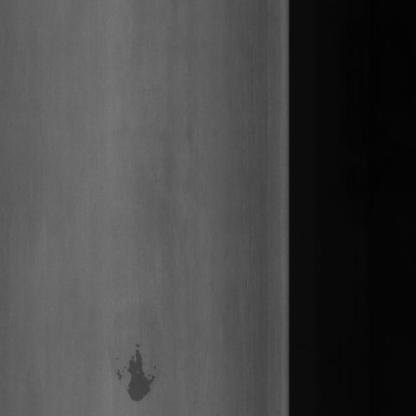oil_spot: (118, 330, 154, 408)
